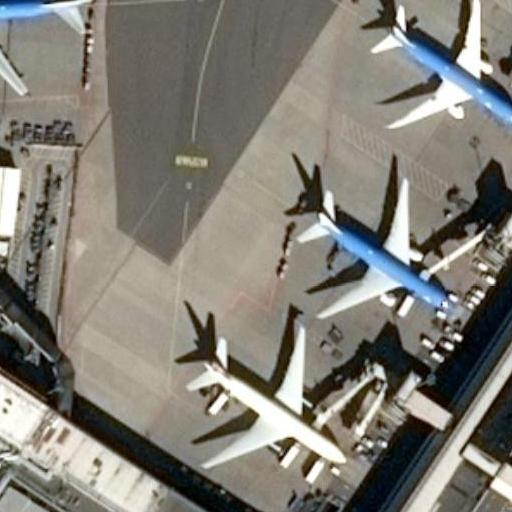Aircraft: (285, 165, 462, 326), (176, 314, 354, 472), (360, 0, 512, 139), (0, 0, 94, 94)
